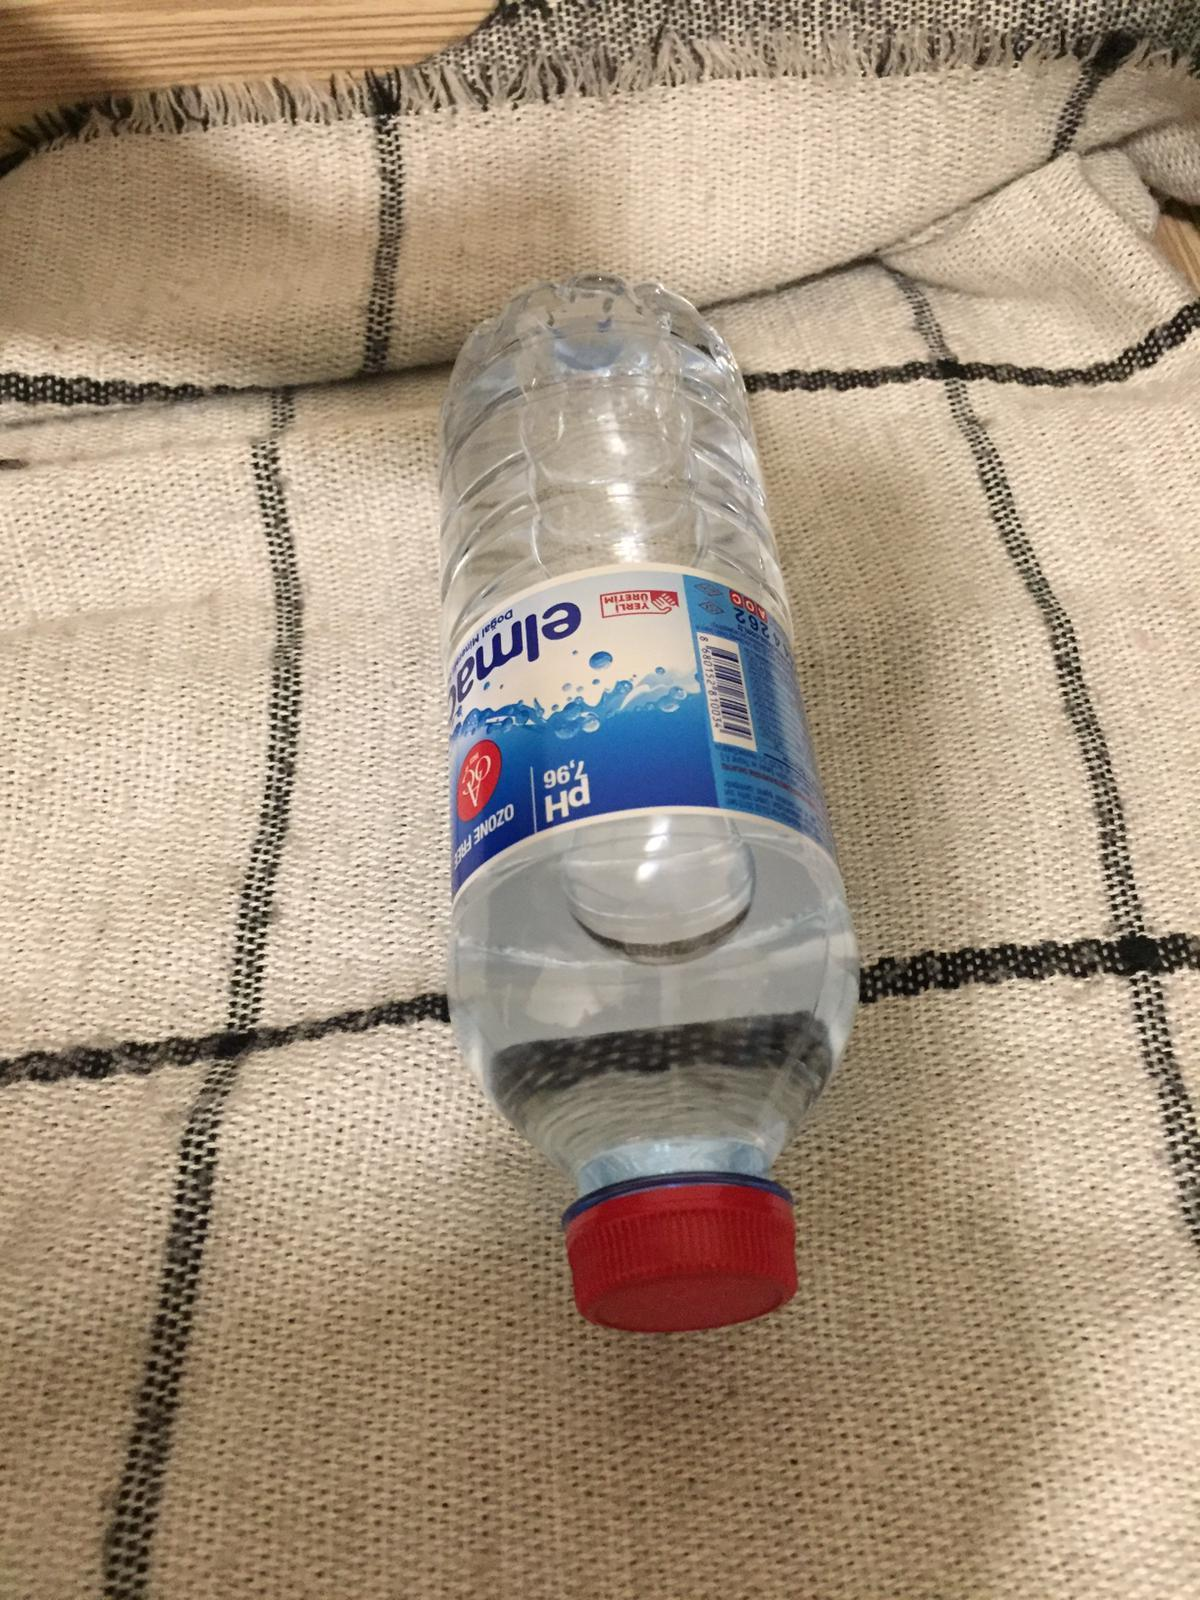bottle: (445, 273, 866, 1348)
